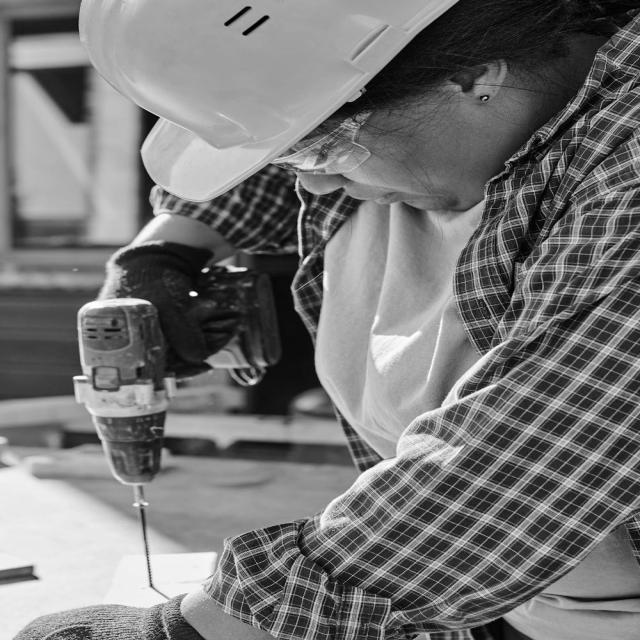corless_drill: (23, 255, 319, 607)
glasses: (270, 106, 388, 189)
helmet: (63, 0, 491, 209)
